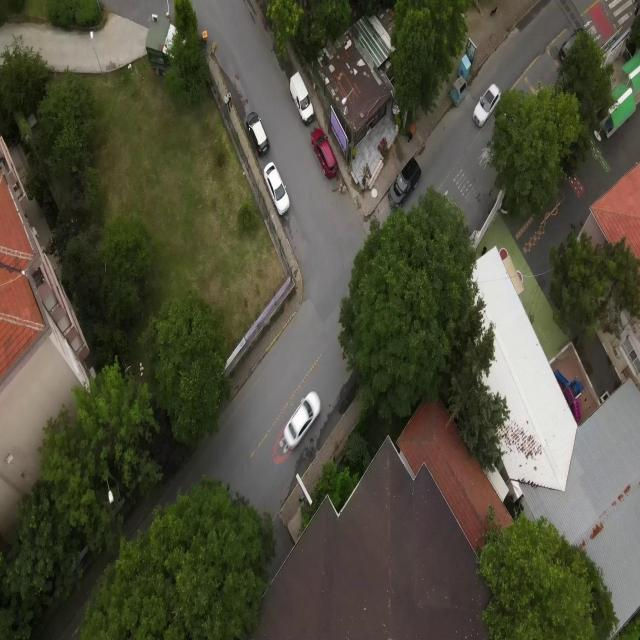p3rson: (224, 92, 231, 112), (228, 90, 233, 108), (407, 131, 412, 143)
